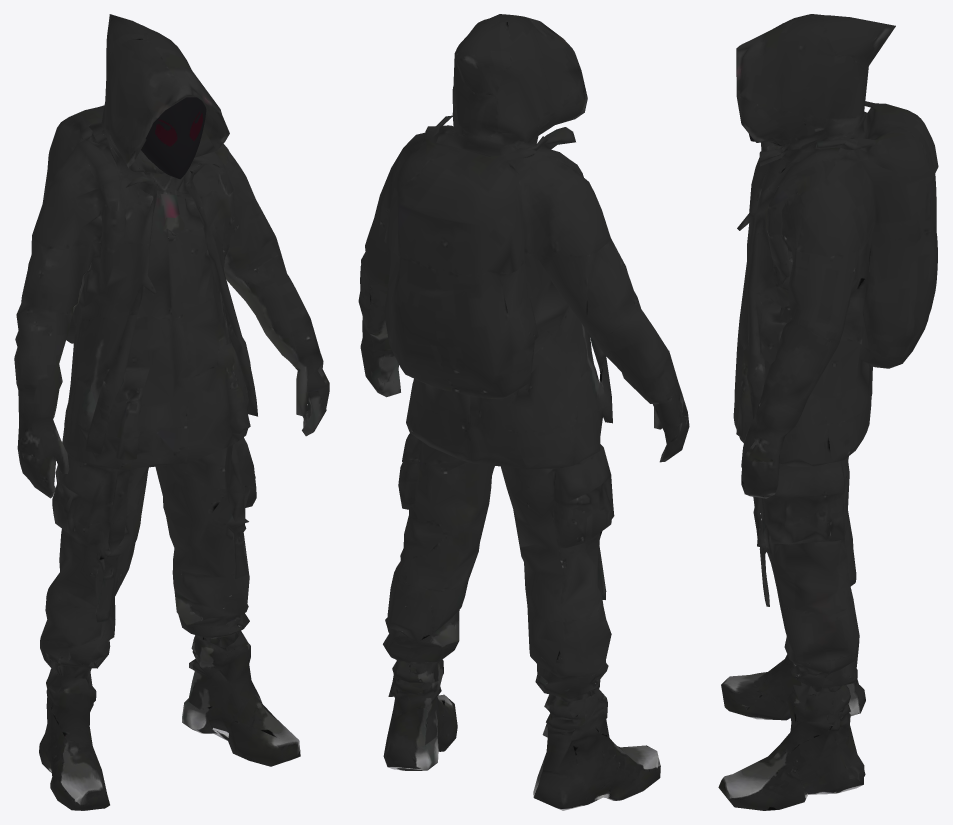
3 renders of one model, left to right at view 1: azimuth 30°, elevation 25°; view 2: azimuth 150°, elevation 25°; view 3: azimuth 270°, elevation 25°, orthographic. The views are drawn at different scales.
Parts seen in each view (by area): view 1: tripo_node_d85fa887-6ee1-48fe-85d2-1b7b5fc2f6a8, mascara_oficial; view 2: tripo_node_d85fa887-6ee1-48fe-85d2-1b7b5fc2f6a8; view 3: tripo_node_d85fa887-6ee1-48fe-85d2-1b7b5fc2f6a8.
Boxes of the visible parts, bbox=[...] form: tripo_node_d85fa887-6ee1-48fe-85d2-1b7b5fc2f6a8: bbox=[14, 14, 329, 810]; mascara_oficial: bbox=[141, 97, 206, 179]; tripo_node_d85fa887-6ee1-48fe-85d2-1b7b5fc2f6a8: bbox=[358, 14, 689, 810]; tripo_node_d85fa887-6ee1-48fe-85d2-1b7b5fc2f6a8: bbox=[718, 14, 938, 810].
Bounding box in the file's own units: 1.84 × 4.2 × 1.13.
Materials: 2 (2 with a texture image).
